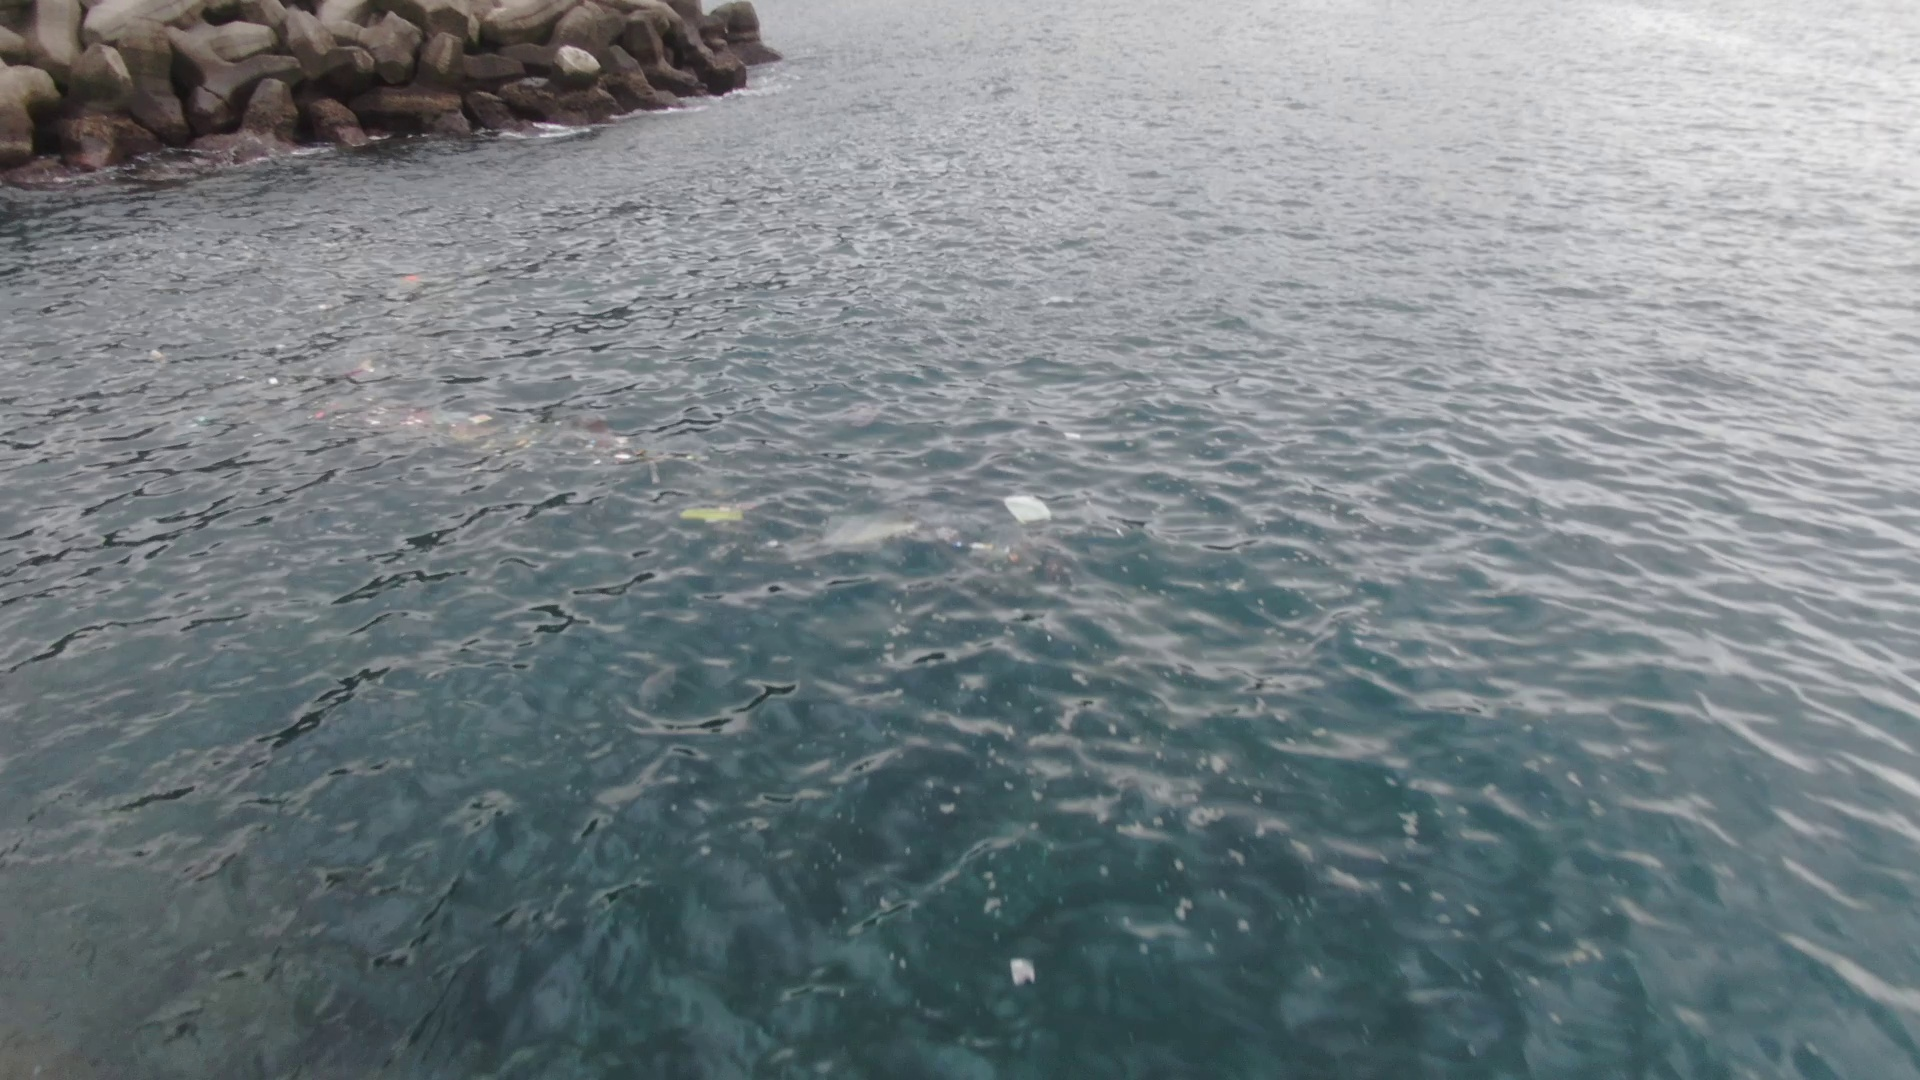garbage: (670, 502, 762, 533), (1000, 493, 1055, 527)
